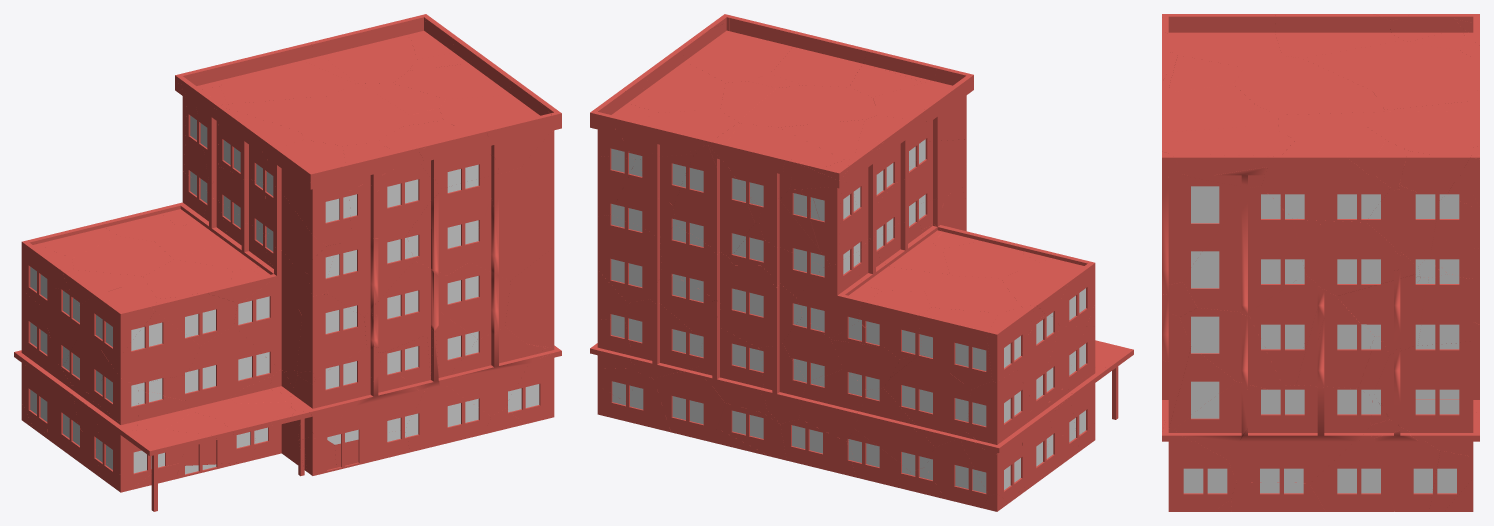
File: building main_3_fecture.fbx
The picture shows the model from 3 angles, left to right: view 1: azimuth 30°, elevation 25°; view 2: azimuth 150°, elevation 25°; view 3: azimuth 270°, elevation 25°; orthographic projection. The views are drawn at different scales.
Parts seen in each view (by area): view 1: building-hospital_cell.114, building-hospital_cell.020, building-hospital_cell.189, building-hospital_cell.099, building-hospital_cell.045, building-hospital_cell.145, building-hospital_cell.132, building-hospital_cell.105, building-hospital_cell.149, building-hospital_cell.166, building-hospital_cell.141, building-hospital_cell.097 (+59 smaller); view 2: building-hospital_cell.128, building-hospital_cell.145, building-hospital_cell.099, building-hospital_cell.009, building-hospital_cell.183, building-hospital_cell.085, building-hospital_cell.095, building-hospital_cell.005, building-hospital_cell.114, building-hospital_cell.178, building-hospital_cell.141, building-hospital_cell.161 (+62 smaller); view 3: building-hospital_cell.096, building-hospital_cell.032, building-hospital_cell.091, building-hospital_cell.177, building-hospital_cell.178, building-hospital_cell.145, building-hospital_cell.114, building-hospital_cell.140, building-hospital_cell.153, building-hospital_cell.081, building-hospital_cell.112, building-hospital_cell.110 (+39 smaller).
Boxes of the visible parts, x1,y1,x2,y2 form: building-hospital_cell.114: (262, 138, 351, 245); building-hospital_cell.020: (469, 167, 554, 280); building-hospital_cell.189: (406, 173, 498, 275); building-hospital_cell.099: (439, 79, 551, 174); building-hospital_cell.045: (342, 142, 438, 238); building-hospital_cell.145: (220, 43, 355, 104); building-hospital_cell.132: (327, 235, 414, 316); building-hospital_cell.105: (364, 261, 446, 352); building-hospital_cell.149: (376, 120, 498, 189); building-hospital_cell.166: (444, 327, 534, 416); building-hospital_cell.141: (310, 18, 416, 83); building-hospital_cell.097: (234, 261, 301, 371); building-hospital_cell.128: (673, 123, 754, 255); building-hospital_cell.145: (707, 123, 843, 207); building-hospital_cell.099: (680, 16, 799, 82); building-hospital_cell.009: (717, 265, 802, 348); building-hospital_cell.183: (883, 354, 971, 446); building-hospital_cell.085: (918, 307, 998, 389); building-hospital_cell.095: (597, 214, 661, 303); building-hospital_cell.005: (624, 299, 702, 378); building-hospital_cell.114: (873, 67, 973, 143); building-hospital_cell.178: (738, 85, 878, 127); building-hospital_cell.141: (609, 110, 738, 159); building-hospital_cell.161: (698, 328, 766, 412); building-hospital_cell.096: (1228, 385, 1372, 483); building-hospital_cell.032: (1183, 186, 1305, 315); building-hospital_cell.091: (1261, 126, 1390, 224); building-hospital_cell.177: (1292, 218, 1419, 296); building-hospital_cell.178: (1233, 55, 1384, 114); building-hospital_cell.145: (1373, 42, 1479, 109); building-hospital_cell.114: (1162, 14, 1281, 67); building-hospital_cell.140: (1168, 175, 1248, 284); building-hospital_cell.153: (1373, 341, 1473, 405); building-hospital_cell.081: (1179, 307, 1282, 389); building-hospital_cell.112: (1247, 275, 1324, 385); building-hospital_cell.110: (1296, 289, 1374, 388).
Bounding box in the file's own units: 2560 × 1810 × 1460.
